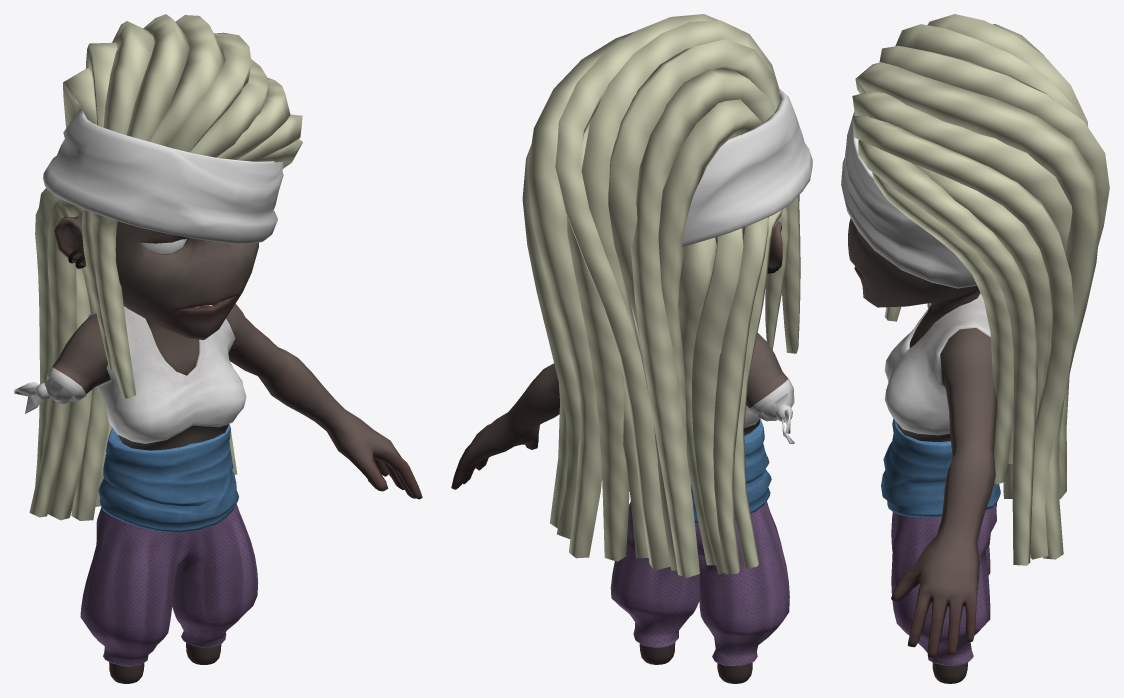
The model's file is BandageLady.fbx.
3 views of the same model, side by side, from view 1: azimuth 30°, elevation 25°; view 2: azimuth 150°, elevation 25°; view 3: azimuth 270°, elevation 25° (orthographic).
Visible parts, largest first — view 1: BandageLady; view 2: BandageLady; view 3: BandageLady.
Boxes of the visible parts, x1,y1,x2,y2 form: BandageLady: (14, 14, 422, 683); BandageLady: (451, 14, 812, 683); BandageLady: (841, 14, 1109, 683).
Bounding box in the file's own units: 84.94 × 143 × 54.54.
Materials: 1 (1 with a texture image).
